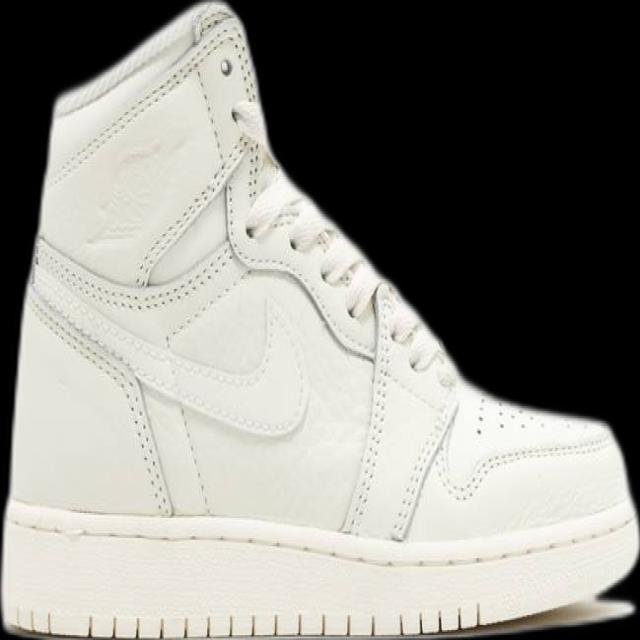J1_InsoleChar: (0, 0, 639, 639)
J1_StitchPattern: (26, 96, 459, 540), (242, 169, 458, 538), (3, 500, 638, 572), (25, 277, 175, 517), (338, 285, 458, 540), (132, 100, 258, 288), (243, 176, 383, 325), (5, 601, 485, 639), (29, 235, 242, 316), (338, 284, 397, 537)
